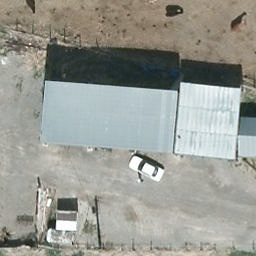car: (128, 154, 166, 183)
